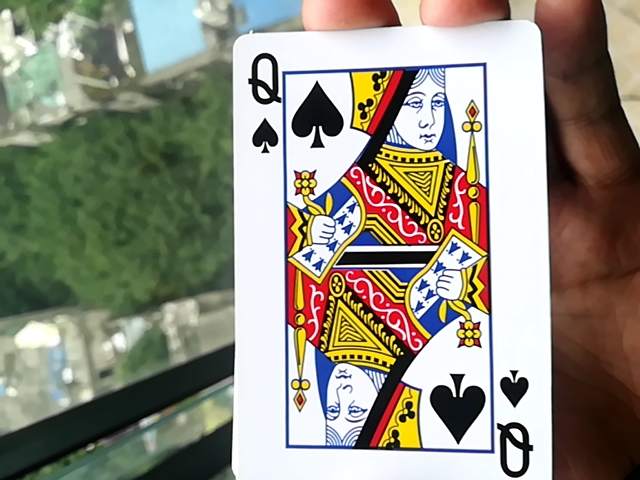ht q: (222, 28, 558, 479)
